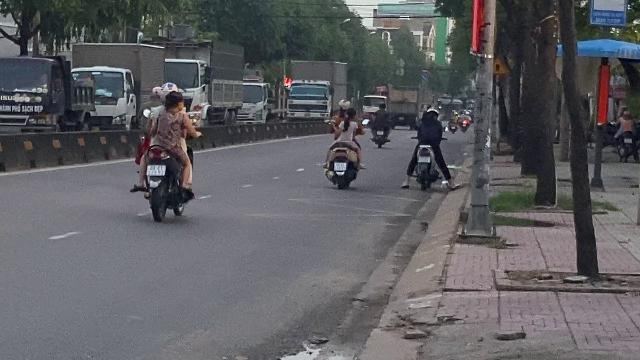helmet: (160, 80, 180, 96)
licenseplate: (148, 164, 166, 176)
motorcyclist: (130, 81, 198, 221)
nohelmet: (162, 90, 184, 112)
